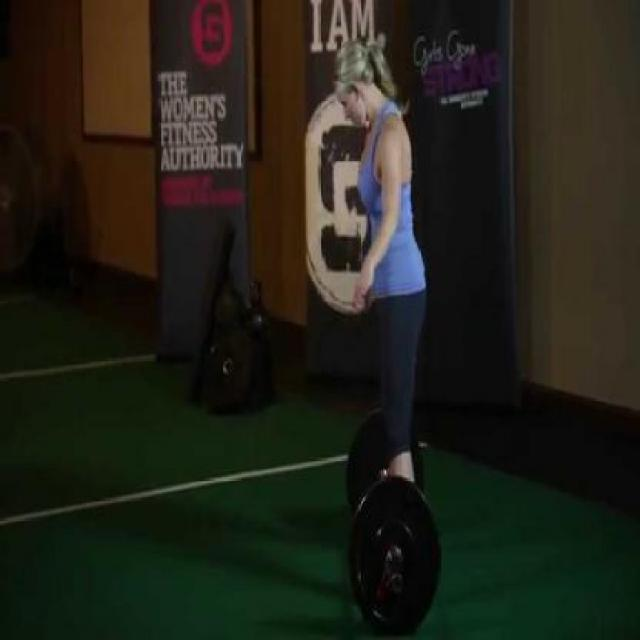Barbell: (388, 563, 408, 605)
